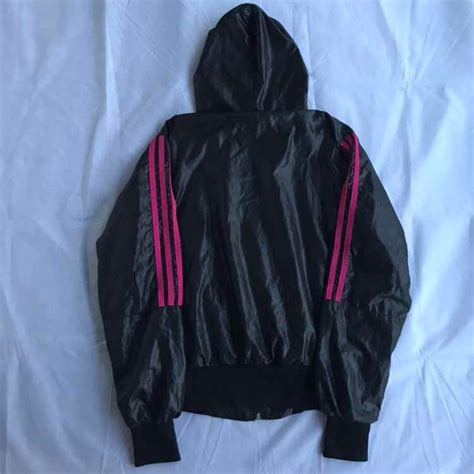nylon: (97, 3, 411, 426)
